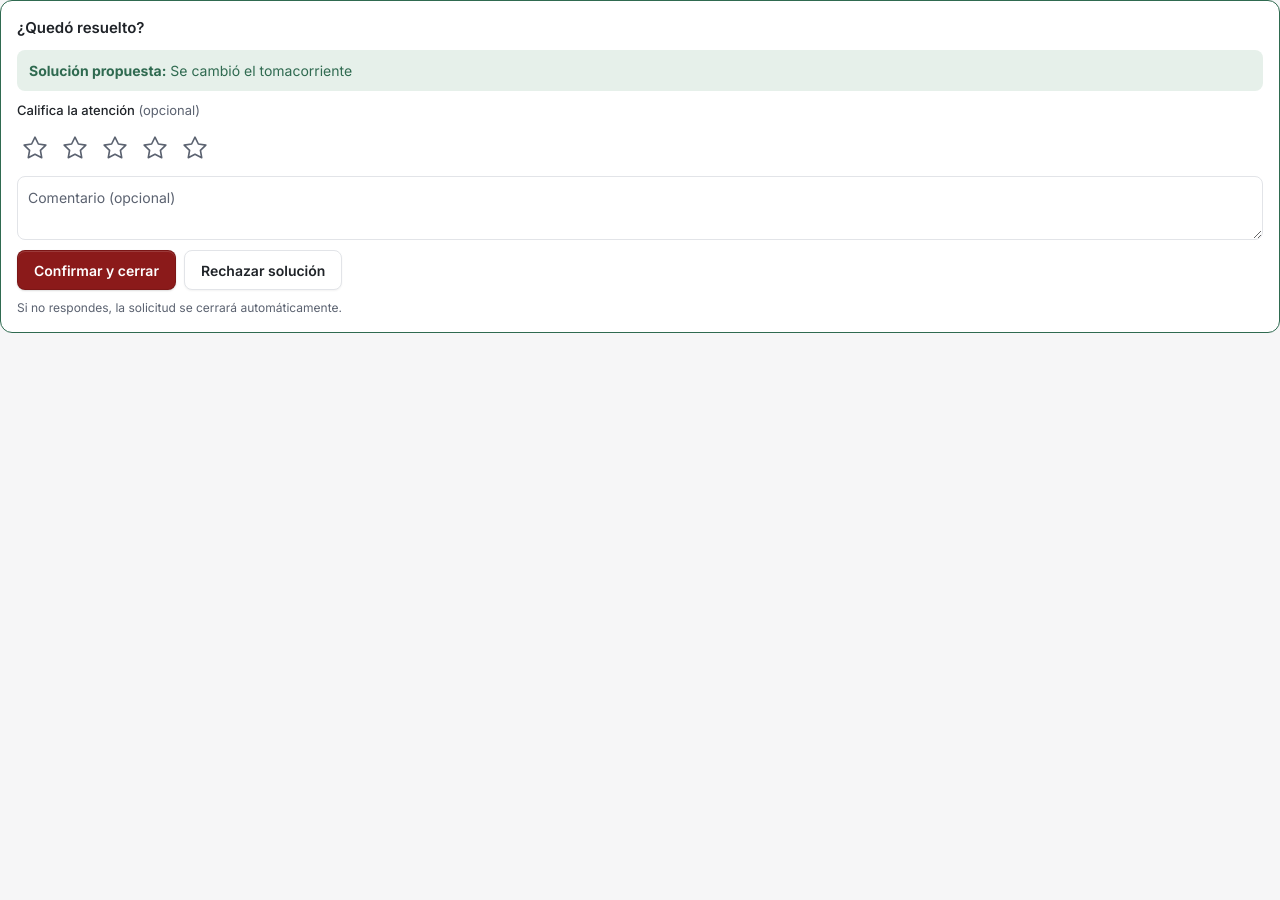
SatisfactionPanel: solicitud resuelta › rechazar con motivo devuelve la solicitud a En atención
Click the button "Rechazar solución" at {"x": 263, "y": 270}, box [184, 250, 342, 290]
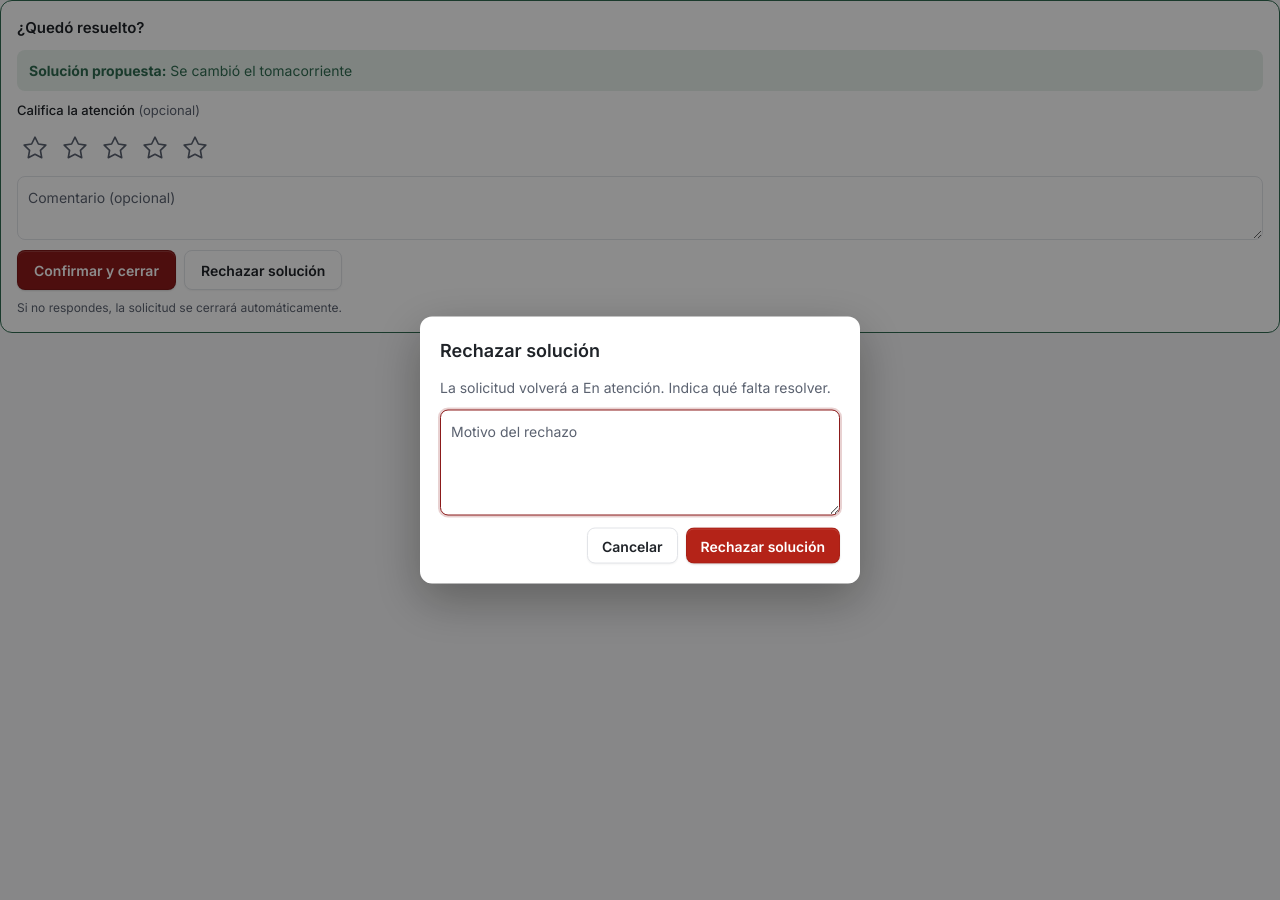
Type "El tomacorriente sigue sin funcionar" into the text box labelled "Motivo" at {"x": 640, "y": 462}, box [440, 410, 840, 516]
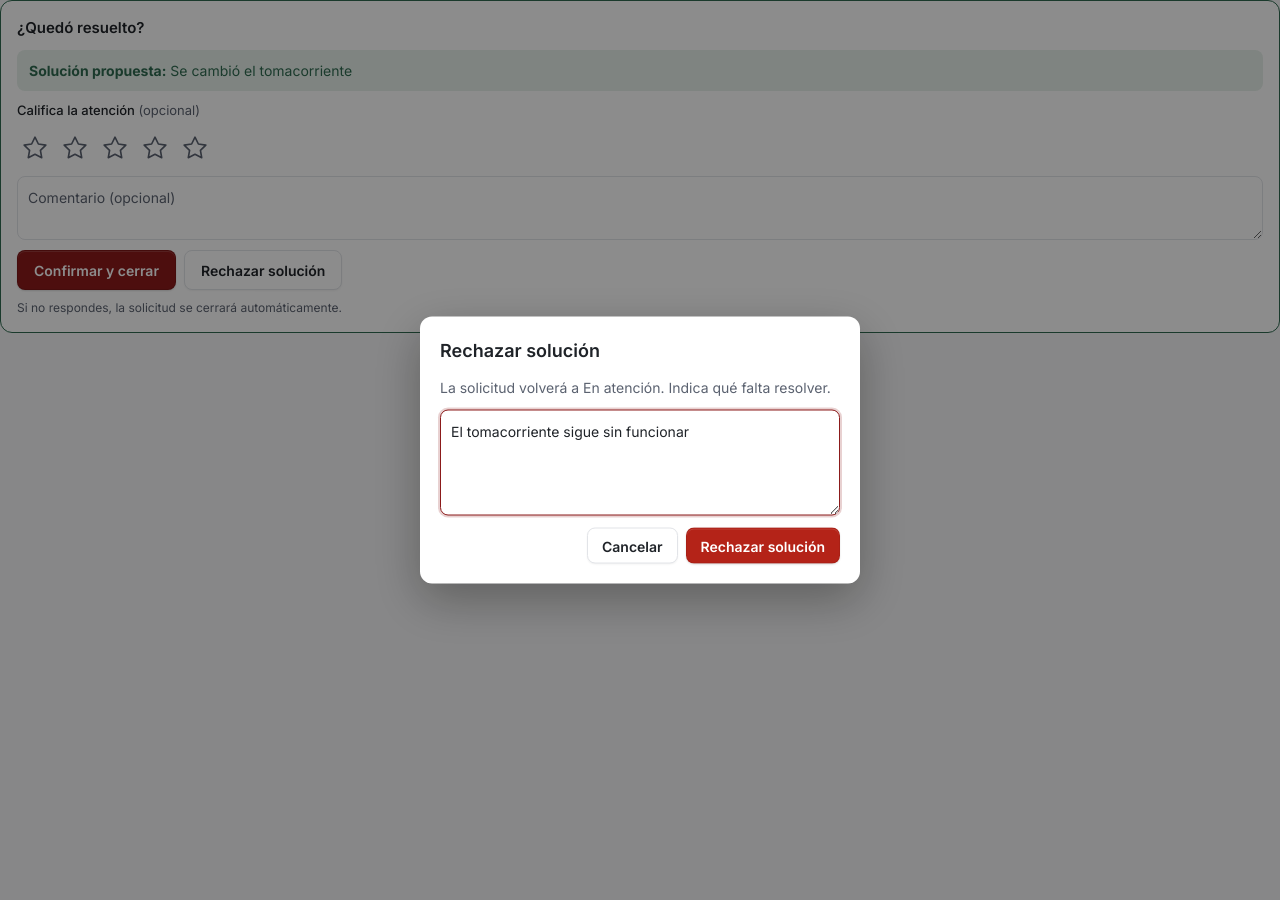
Click the button "Rechazar solución" at {"x": 763, "y": 546}, box [686, 528, 840, 564]
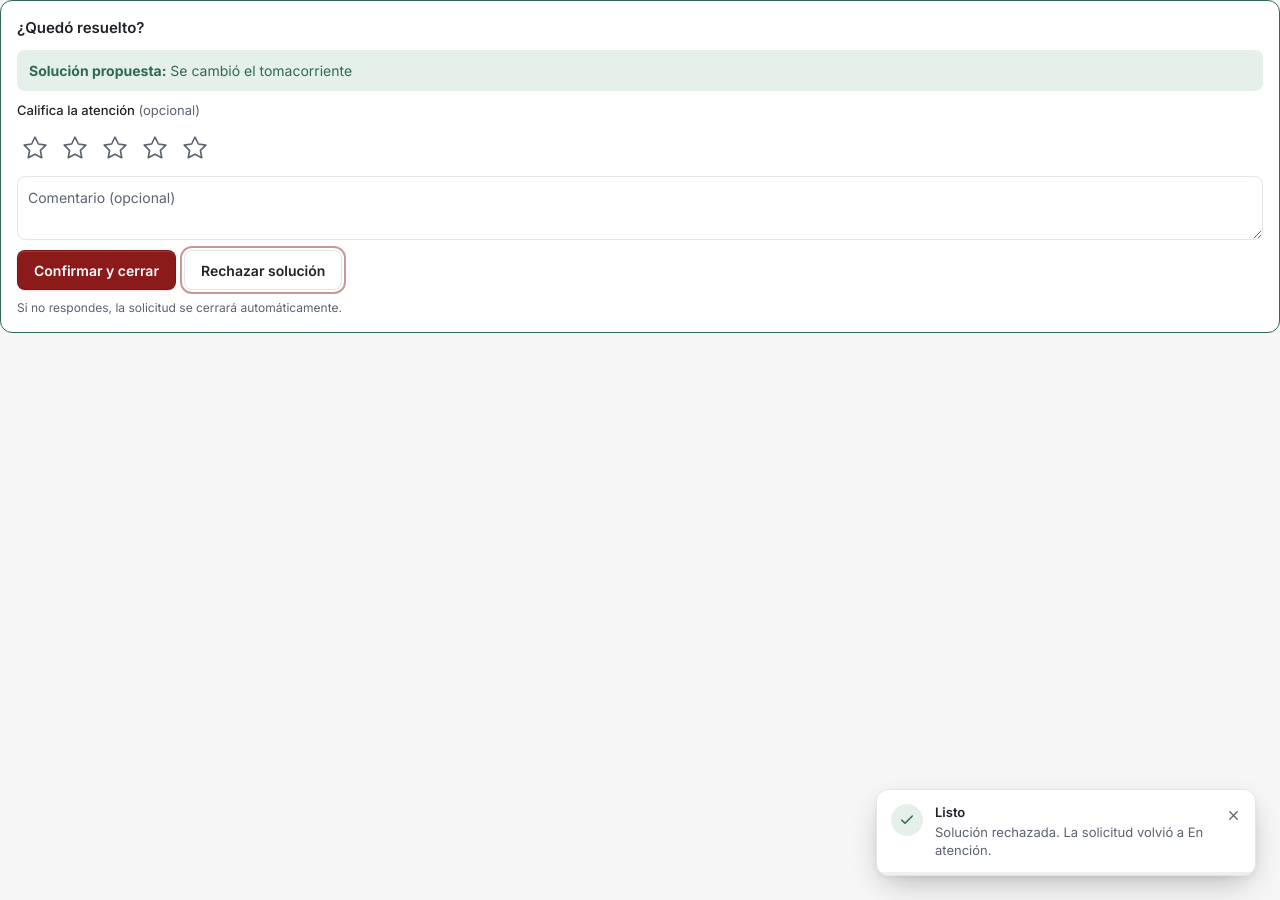
Expected: the text "Solución rechazada. La solicitud volvió a En atención." is shown, [935, 824, 1207, 860]
